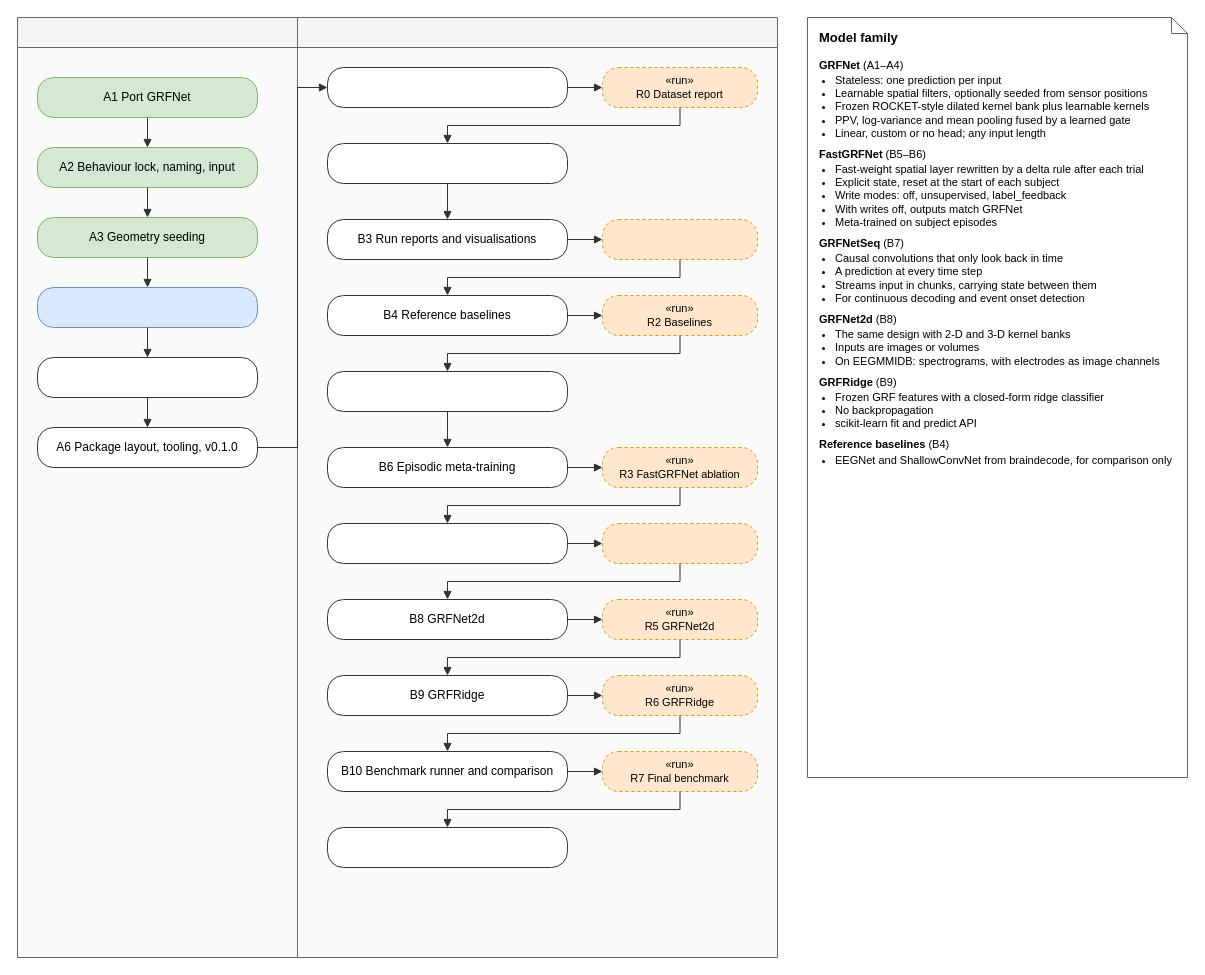
Image size: 1205x975. Some labels were removed from this diagram. Here are the shapes that lost their labels. From the top down, the centre of each, then its label:
the point at 447,87: B1 EEGMMIDB loader and dataset report
the point at 447,163: B2 Training and evaluation pipeline
the point at 680,239: «run» R1 GRFNet baseline
the point at 147,307: A4 Heads, statistics, bank seed
the point at 147,377: A5 Deployment and persistence
the point at 447,391: B5 FastGRFNet
the point at 447,543: B7 GRFNetSeq
the point at 680,543: «run» R4 GRFNetSeq
the point at 447,847: B11 Weights, tutorials, results, v0.2.0
